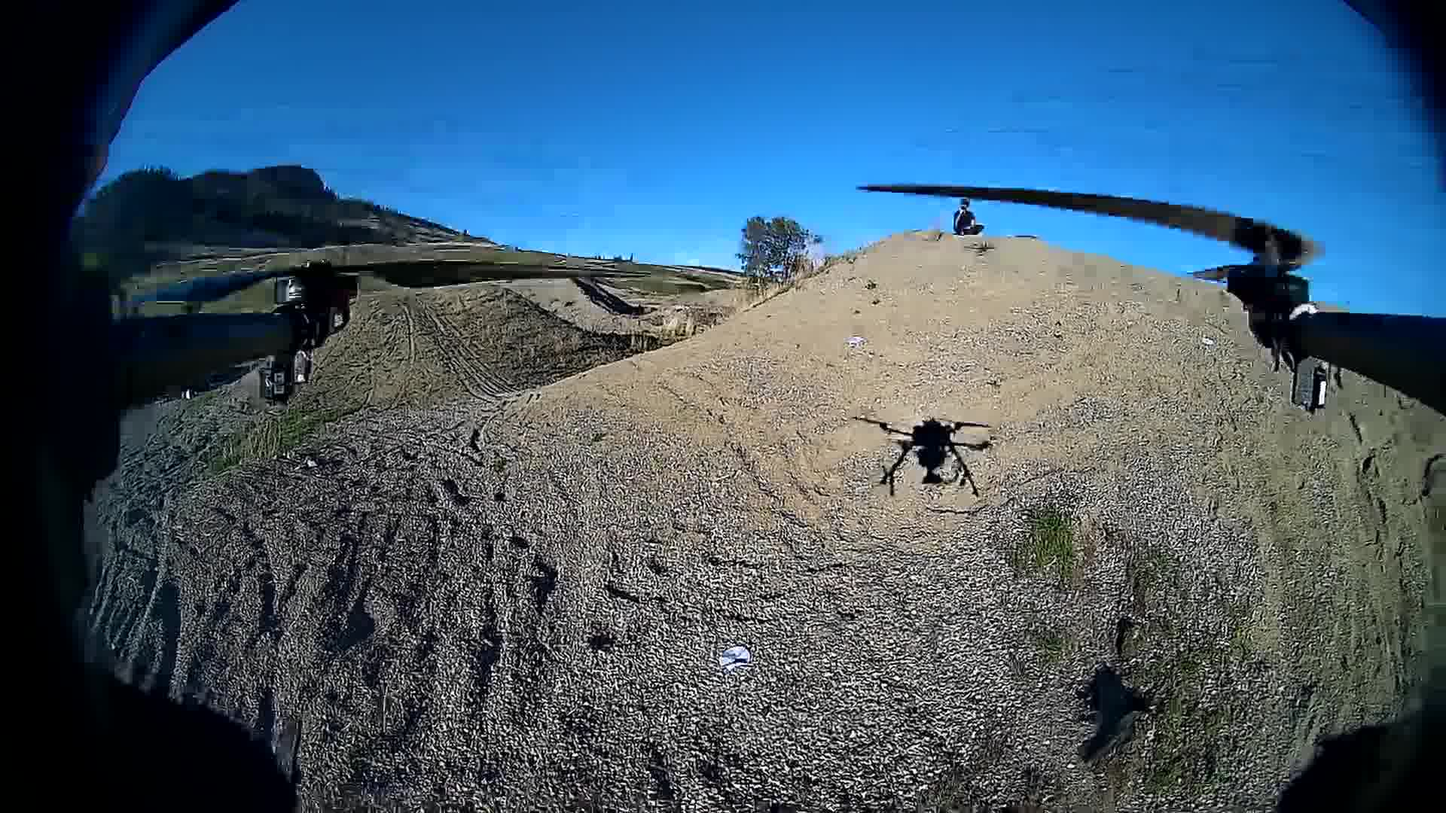Target: (719, 646, 750, 666)
